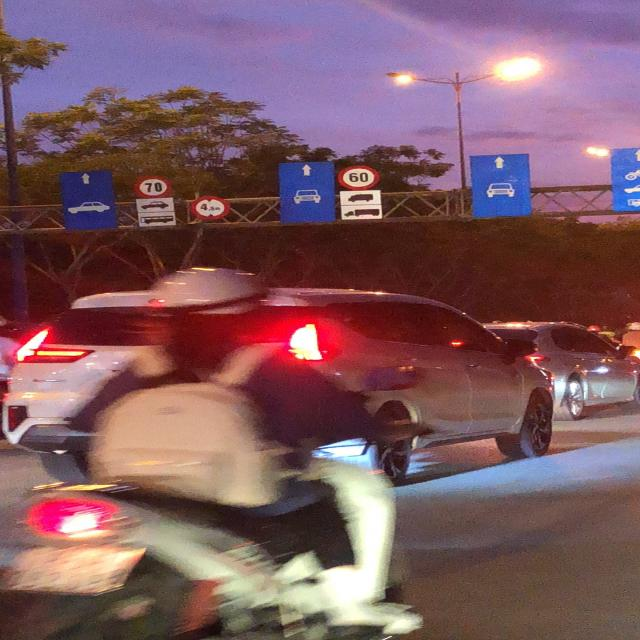Bien bao han che chieu cao: (185, 191, 238, 224)
Bien bao toc do toi da cho phep: (334, 163, 389, 190), (132, 174, 172, 199)
